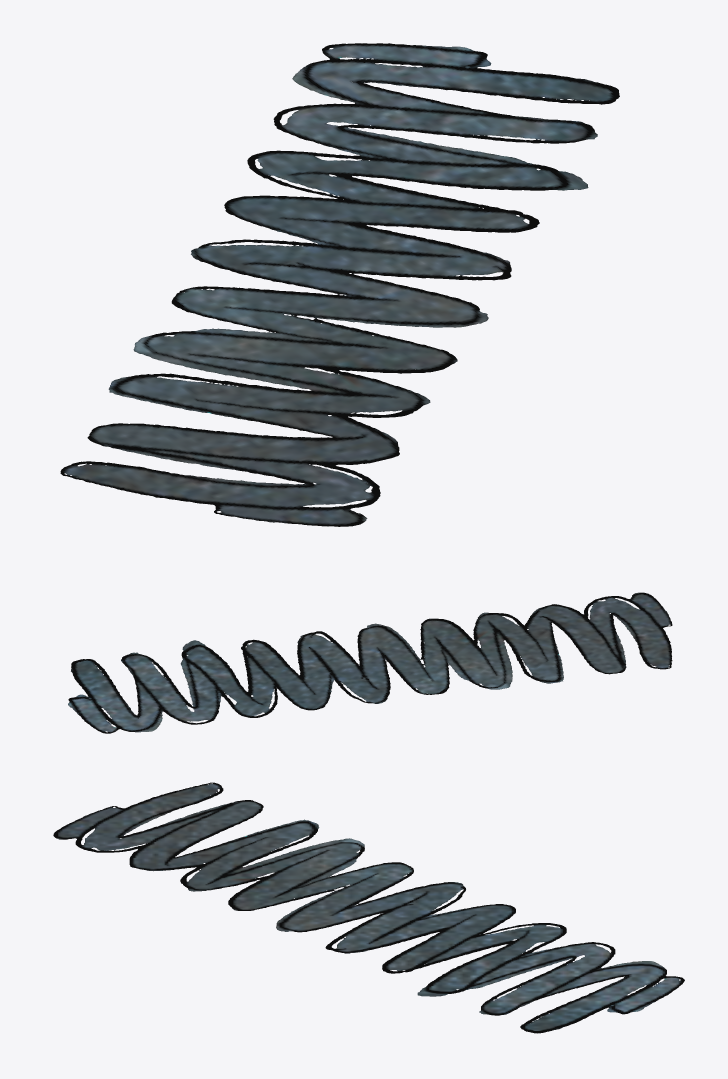
3 views of the same model, one above another, from view 1: azimuth 30°, elevation 25°; view 2: azimuth 150°, elevation 25°; view 3: azimuth 270°, elevation 25° (orthographic). The views are drawn at different scales.
Parts seen in each view (by area): view 1: polySurface23; view 2: polySurface23; view 3: polySurface23.
Boxes of the visible parts, left/top/right/bottom form: polySurface23: left=60, top=43, right=619, bottom=526; polySurface23: left=68, top=592, right=672, bottom=733; polySurface23: left=53, top=782, right=684, bottom=1033.
Bounding box in the file's own units: 5.84 × 0 × 5.73.
